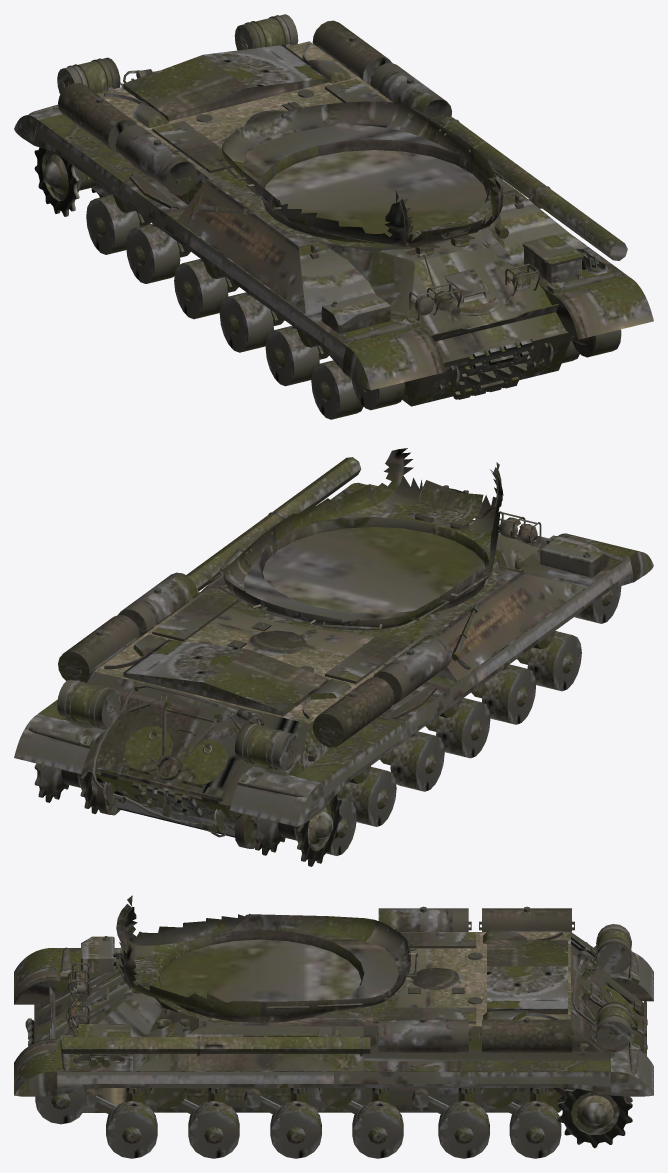
The model's file is is2_hull_m2.obj.
3 views of the same model, one above another, from view 1: azimuth 30°, elevation 25°; view 2: azimuth 150°, elevation 25°; view 3: azimuth 270°, elevation 25° (orthographic). The views are drawn at different scales.
Visible parts, largest first — view 1: is2_hull_m2; view 2: is2_hull_m2; view 3: is2_hull_m2.
Part boxes in pixels (x1=…): is2_hull_m2: x1=14, y1=14, x2=653, y2=419; is2_hull_m2: x1=14, y1=448, x2=653, y2=866; is2_hull_m2: x1=14, y1=895, x2=653, y2=1158.
Size of the model in its own units: 3.14 by 2.17 by 6.68.
1 material, 1 textured.
